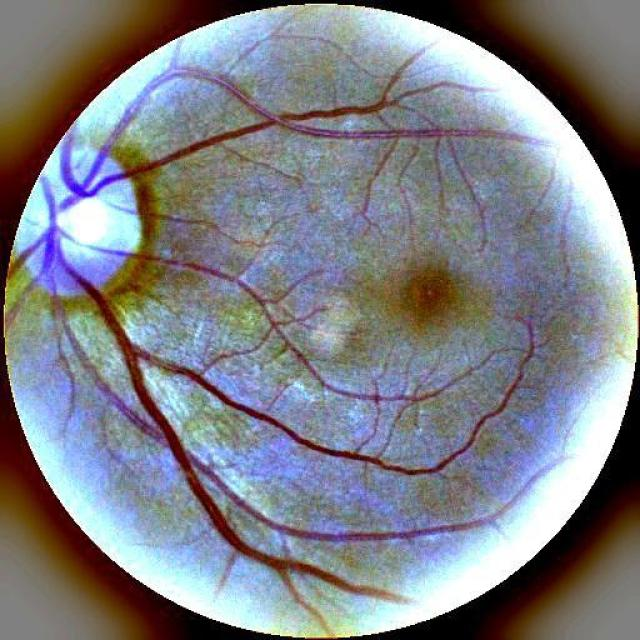Macula: (407, 256, 455, 330)
Nerves: (46, 190, 381, 594), (71, 271, 281, 568), (74, 275, 204, 504), (60, 69, 180, 210), (168, 365, 344, 454), (125, 114, 286, 175), (28, 179, 66, 292), (64, 320, 110, 392), (290, 125, 491, 139), (198, 376, 259, 418), (279, 331, 324, 385), (176, 369, 240, 406), (126, 254, 221, 275), (300, 108, 371, 118), (235, 91, 258, 110), (208, 505, 222, 529)
Optic Disk: (20, 135, 143, 286)
